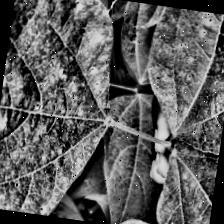Bean Rust: (0, 0, 120, 221), (144, 6, 224, 151), (160, 113, 224, 224)
